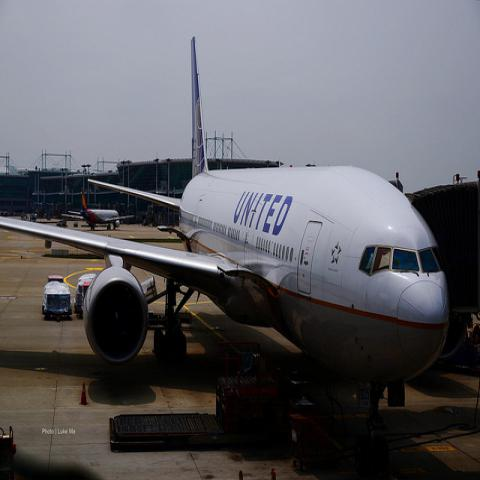truck: (111, 353, 289, 450), (42, 273, 73, 318)
